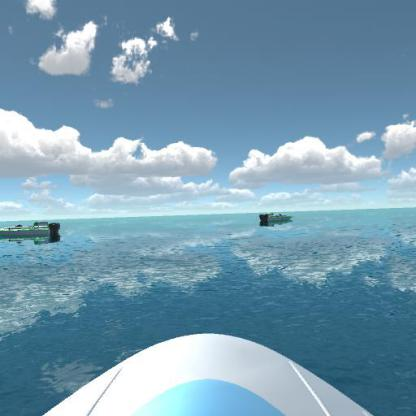usv0: (0, 212, 64, 250), (255, 208, 295, 230)
